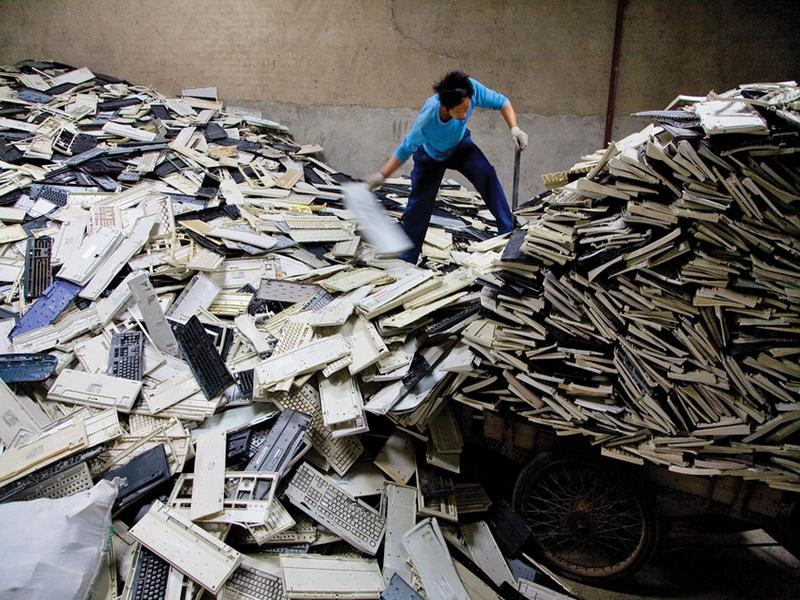keyboard: (130, 501, 247, 591), (284, 465, 389, 559), (270, 385, 367, 476), (174, 313, 238, 404), (119, 547, 188, 600), (103, 327, 147, 381), (268, 320, 313, 357)
